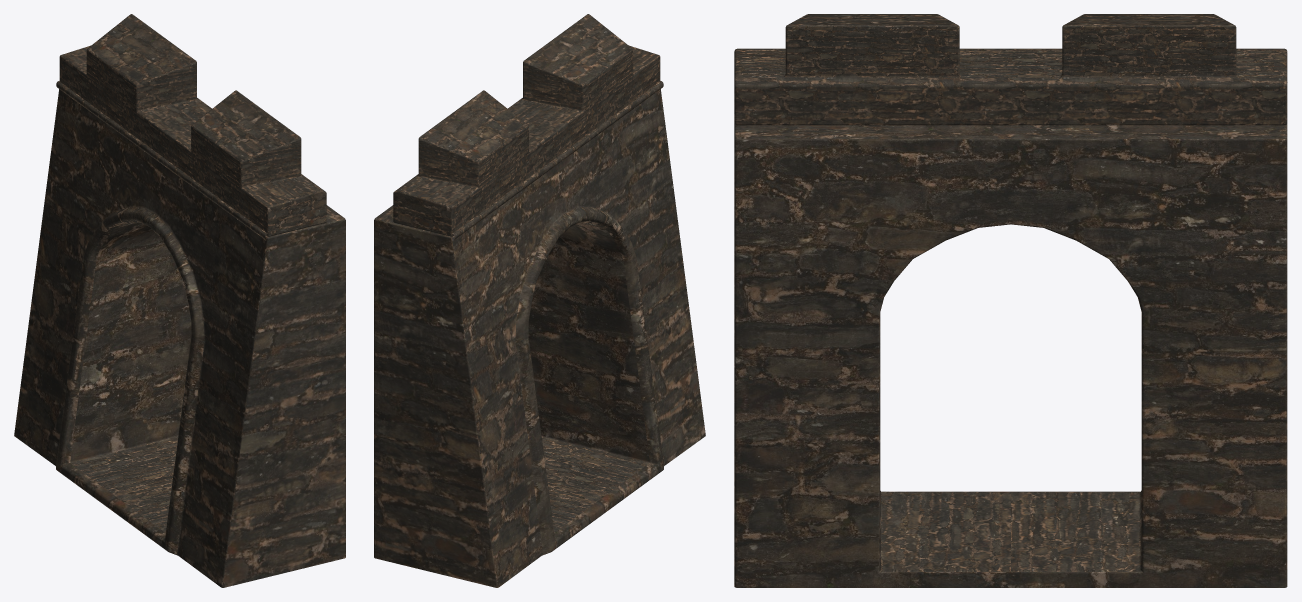
Rendered from block_11.glb.
3 renders of one model, left to right at view 1: azimuth 30°, elevation 25°; view 2: azimuth 150°, elevation 25°; view 3: azimuth 270°, elevation 25°, orthographic. The views are drawn at different scales.
Parts seen in each view (by area): view 1: block_11; view 2: block_11; view 3: block_11.
Boxes of the visible parts, x1,y1,x2,y2 form: block_11: (14, 14, 345, 587); block_11: (374, 14, 705, 587); block_11: (734, 14, 1287, 587).
Bounding box in the file's own units: 2.14 × 6.46 × 5.93.
Materials: 2 (2 with a texture image).
